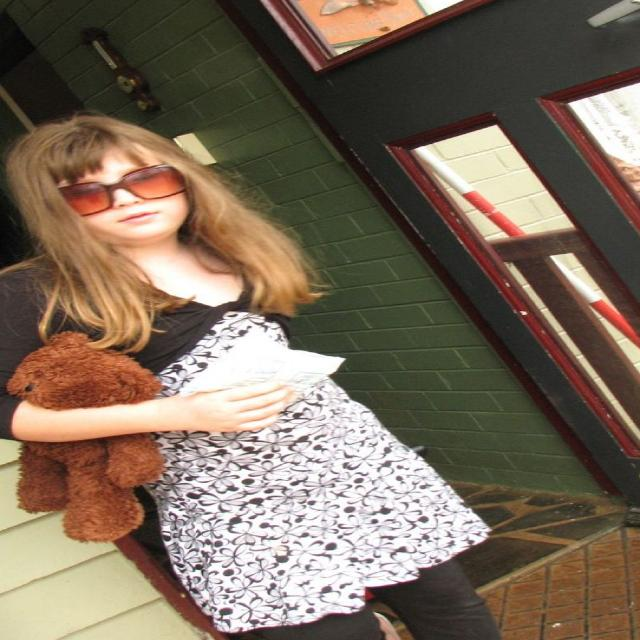Glasses: (41, 169, 182, 202)
